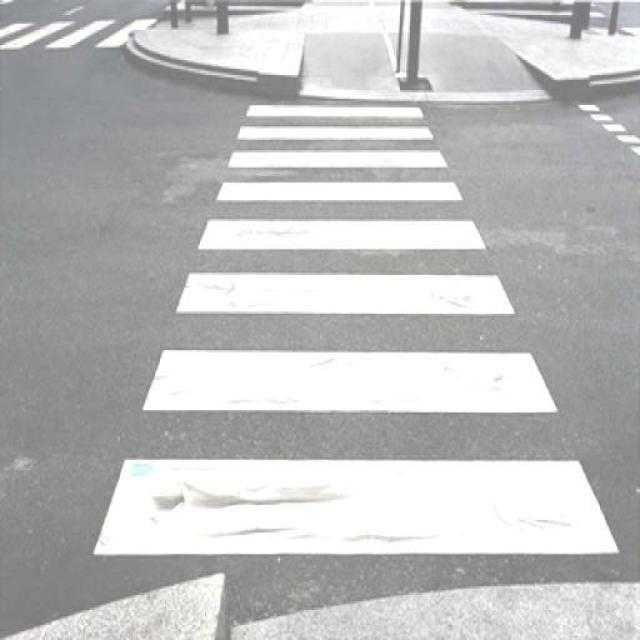crosswalk: (81, 100, 628, 561), (0, 15, 172, 56)
